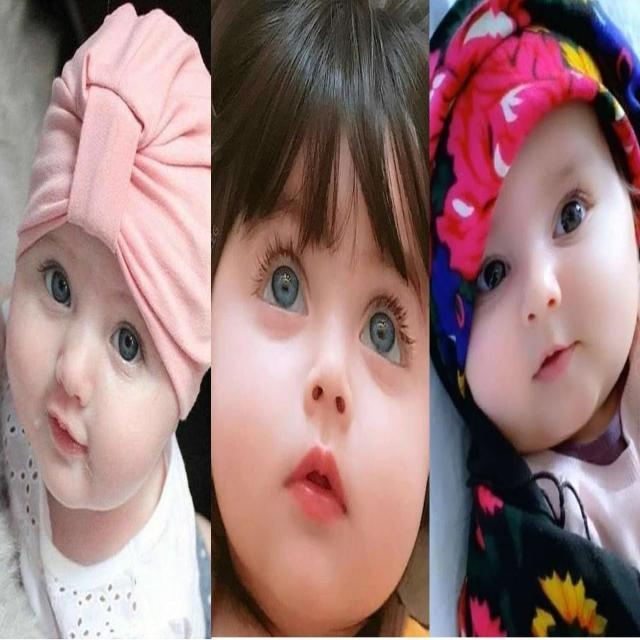non-dog: (211, 1, 430, 640), (428, 0, 640, 637), (0, 0, 211, 640)
